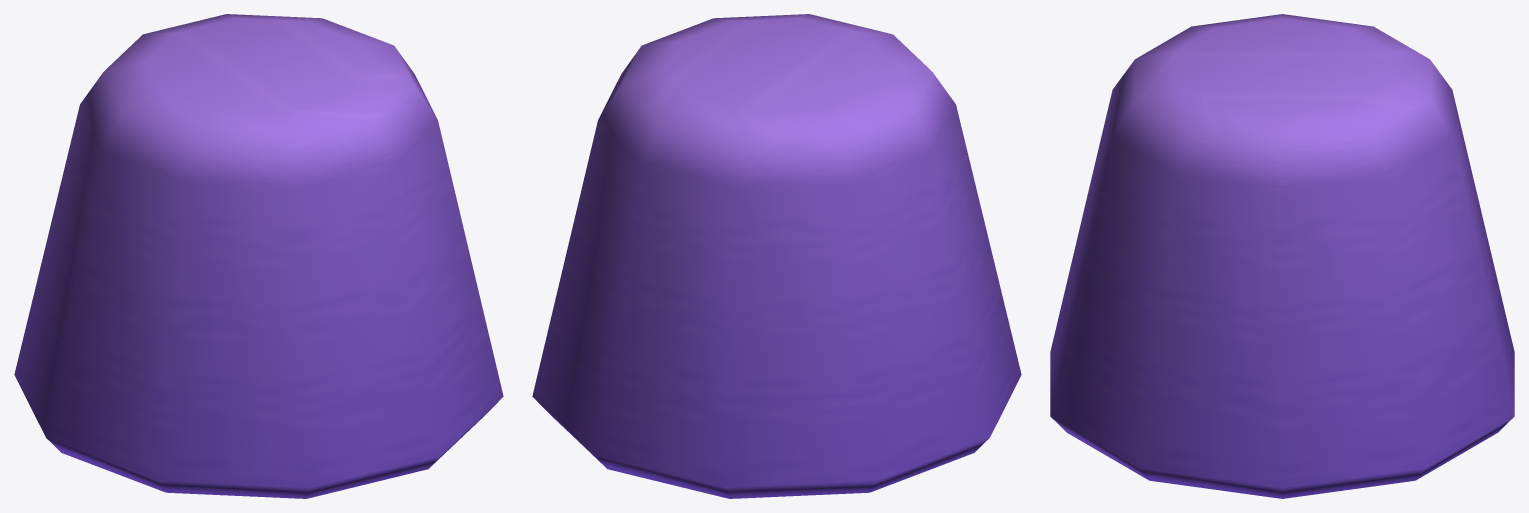
File: SM_GUMDROP_PURPLE.fbx
3 views of the same model, side by side, from view 1: azimuth 30°, elevation 25°; view 2: azimuth 150°, elevation 25°; view 3: azimuth 270°, elevation 25° (orthographic).
Visible parts, largest first — view 1: GUMDROP_PURPLE; view 2: GUMDROP_PURPLE; view 3: GUMDROP_PURPLE.
Part boxes in pixels (<box>): GUMDROP_PURPLE: <box>14,14,503,498</box>; GUMDROP_PURPLE: <box>532,14,1021,498</box>; GUMDROP_PURPLE: <box>1050,14,1514,498</box>.
Size of the model in its own units: 51.97 by 39.55 by 49.43.
1 material, 1 textured.
